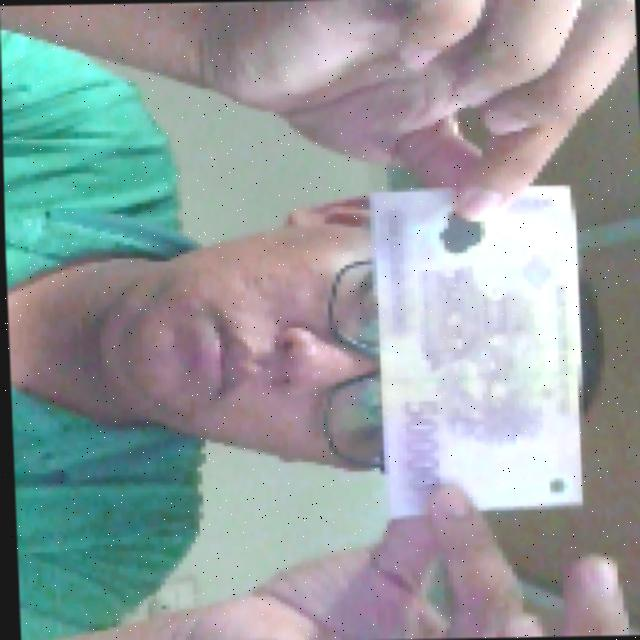50 000 VND: (362, 178, 594, 522)
